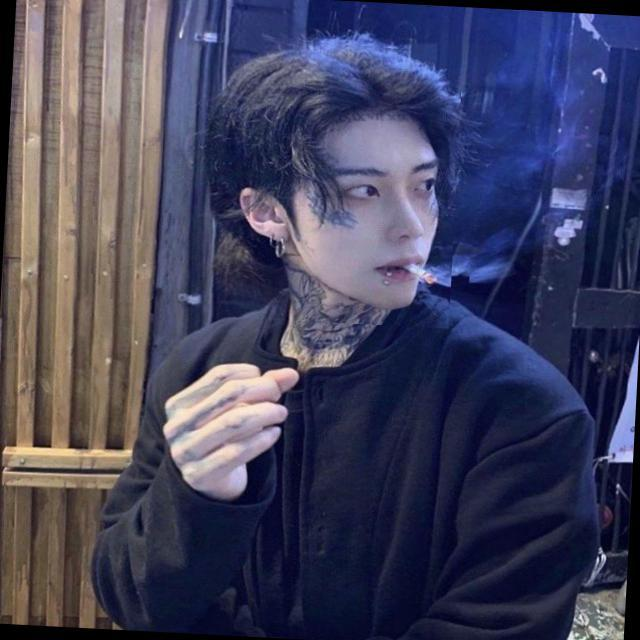cigarette: (398, 253, 471, 293)
